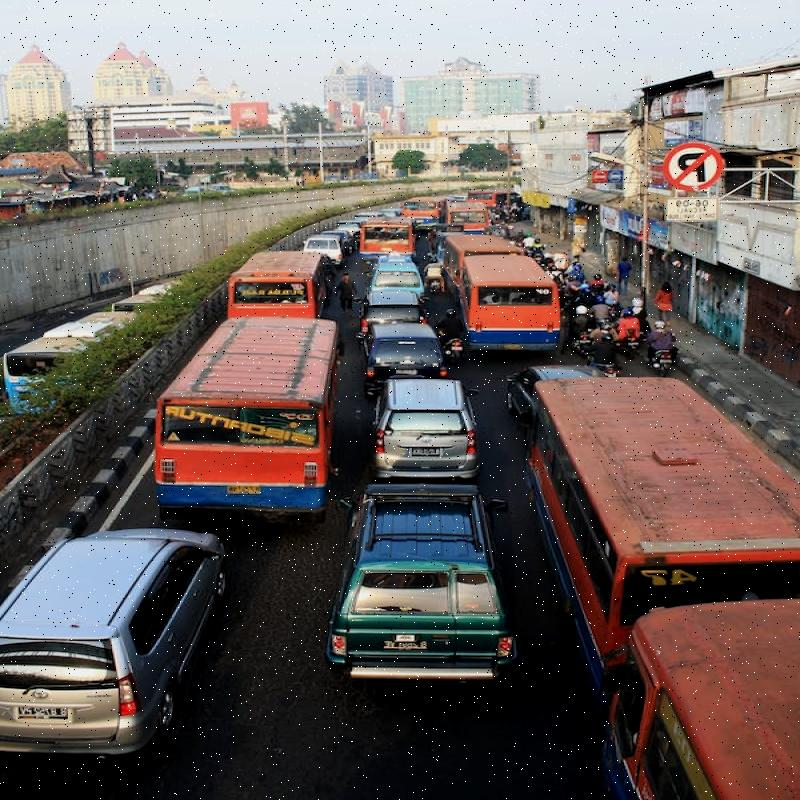car: (0, 529, 227, 750), (322, 481, 520, 696), (373, 365, 480, 465), (358, 297, 437, 382), (349, 256, 424, 306)
